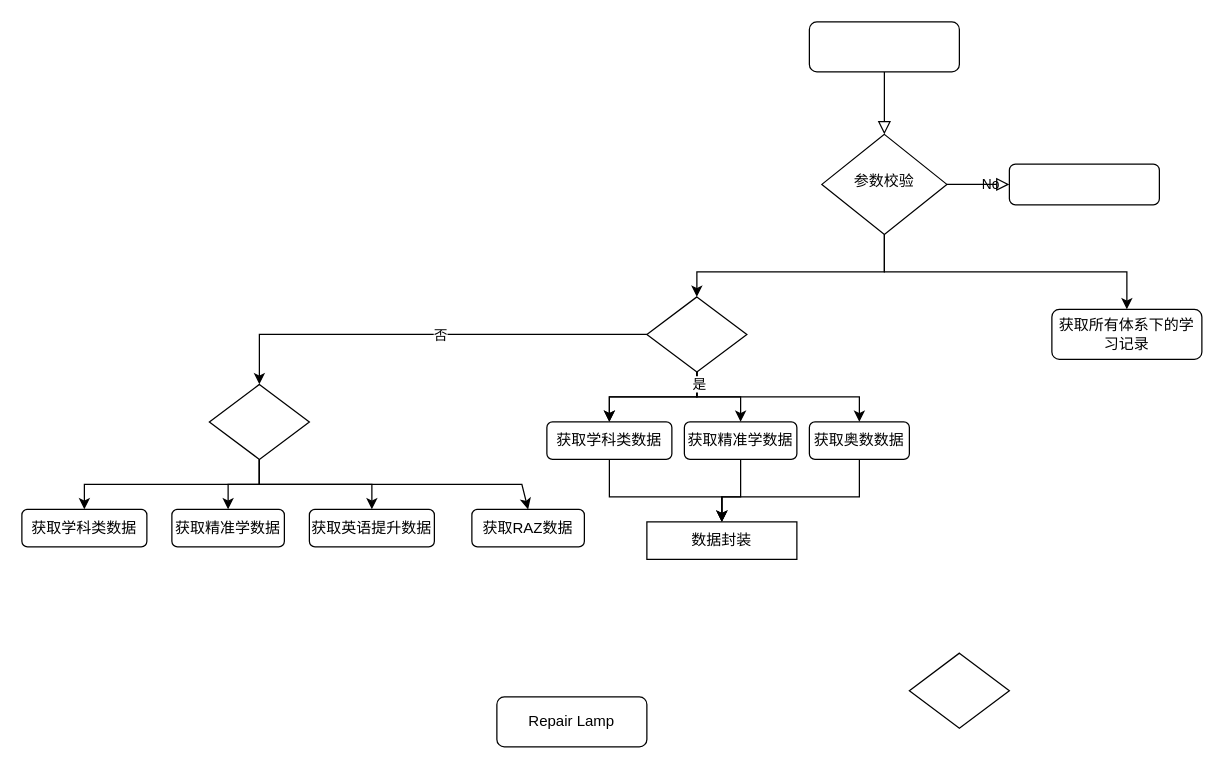
Image size: 1224x769. Some labels were removed from this diagram. Here are the shapes that lost their labels. From the top down, the centre of each, then its label:
point (883, 46): 开始
point (1083, 184): ParamInvalid
point (696, 334): 数学
point (258, 421): 英语
point (958, 690): 其他
